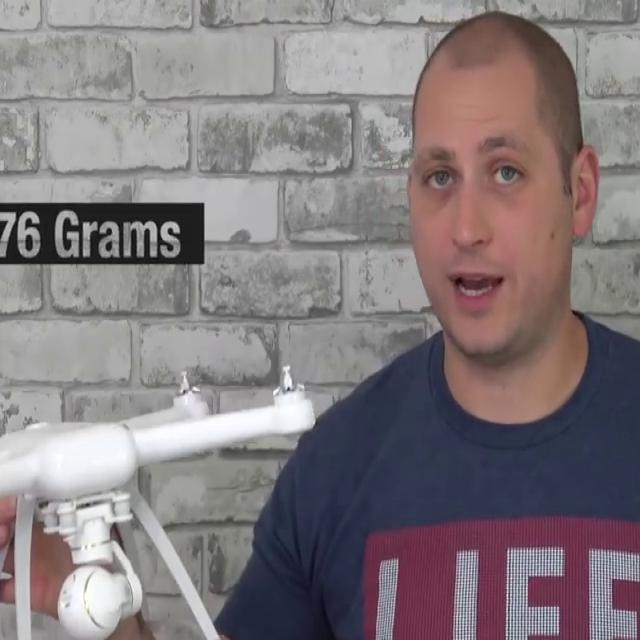drone: (0, 350, 334, 516)
